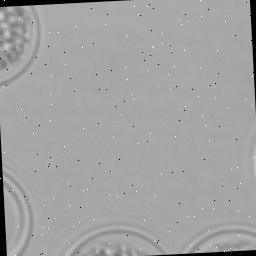picoshell: (0, 7, 39, 89), (62, 226, 167, 256), (2, 167, 31, 256), (181, 225, 256, 253)
